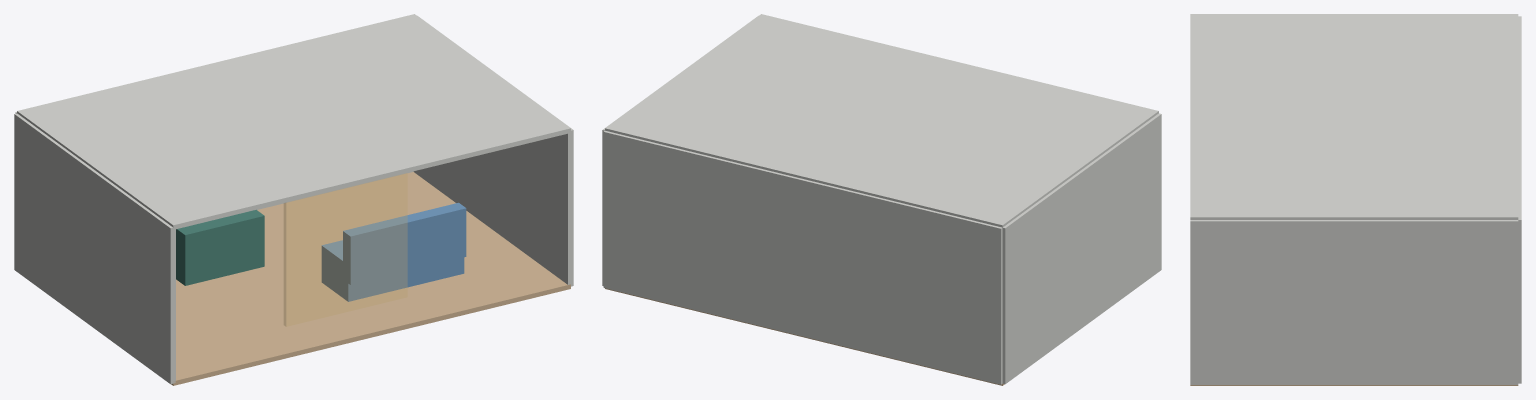
Rendered from demo-home.gltf.
3 renders of one model, left to right at view 1: azimuth 30°, elevation 25°; view 2: azimuth 150°, elevation 25°; view 3: azimuth 270°, elevation 25°, orthographic. The views are drawn at different scales.
Parts seen in each view (by area): view 1: ceiling slab, floor slab, left wall, scan volume, right wall, sofa back, kitchen island, sofa base; view 2: back wall, ceiling slab, left wall, floor slab, right wall; view 3: ceiling slab, right wall, back wall, floor slab.
Boxes of the visible parts, x1,y1,x2,y2 form: ceiling slab: (17,14,570,229); floor slab: (171,172,570,385); left wall: (14,113,175,384); scan volume: (284,173,407,326); right wall: (413,16,573,286); sofa back: (343,202,466,284); kitchen island: (176,209,264,285); sofa base: (321,240,464,301); back wall: (603,130,1002,384); ceiling slab: (605,14,1158,227); left wall: (1002,113,1161,384); floor slab: (605,288,1004,385); right wall: (602,16,757,286); ceiling slab: (1190,14,1518,219); right wall: (1190,220,1518,384); back wall: (1518,16,1521,383); floor slab: (1190,385,1518,385).
Bounding box in the file's own units: 7.3 × 2.78 × 4.95.
